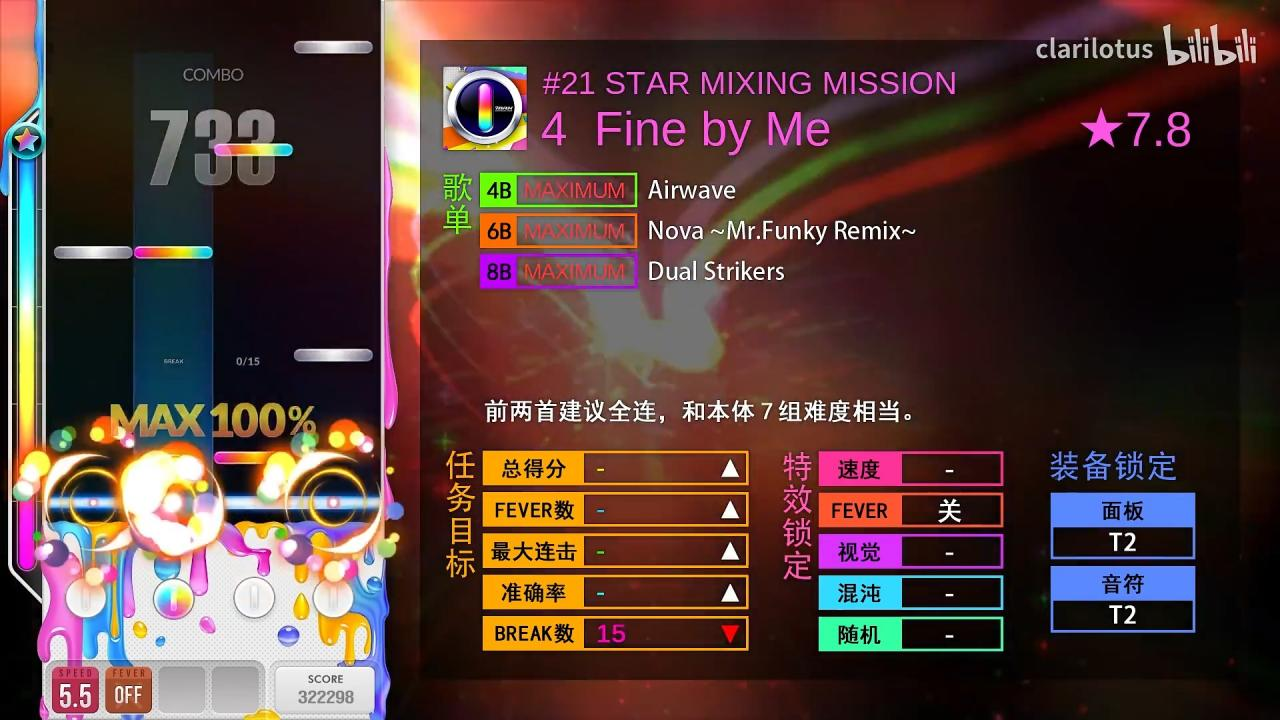note: (134, 245, 214, 260), (213, 144, 293, 158), (54, 246, 133, 260), (294, 348, 372, 362), (294, 41, 373, 54), (213, 451, 289, 464)
